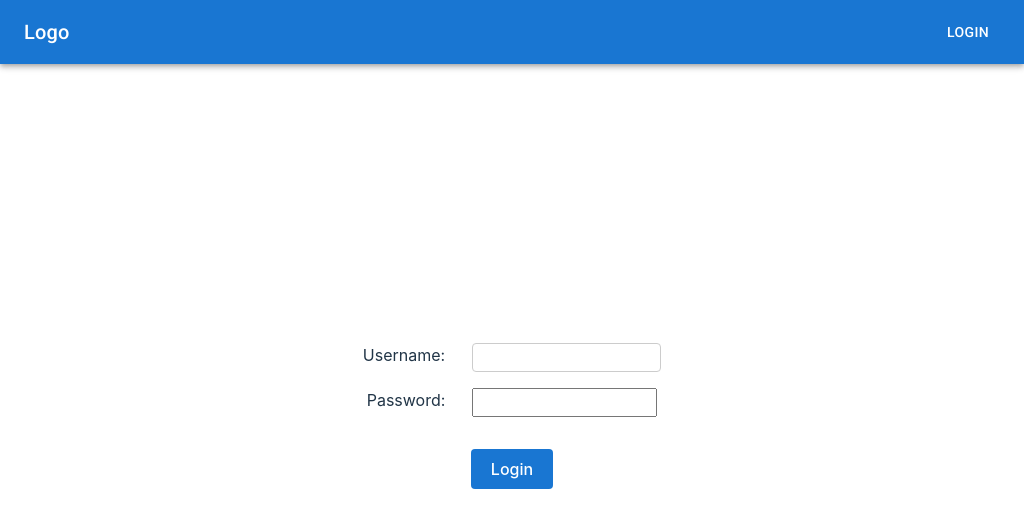
Test case: Login Page › should display error message for invalid login
The image size is (1024, 521).
Type "invaliduser" into the field with id "username".
click(567, 358); type("invaliduser")  # box x1=472 y1=343 x2=661 y2=372
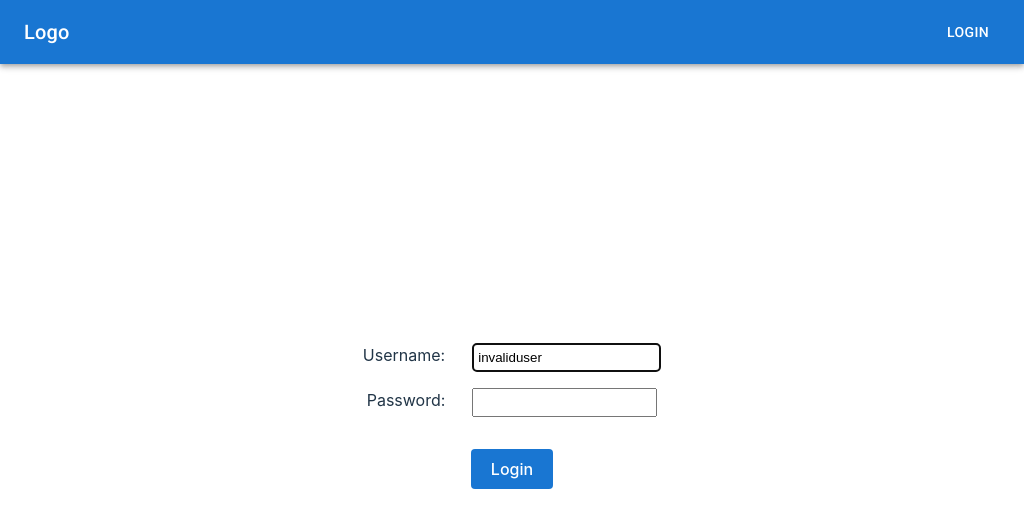
Type "invalidpassword" into the password field labelled "Password:".
click(565, 403); type("invalidpassword")  # box x1=472 y1=388 x2=657 y2=417
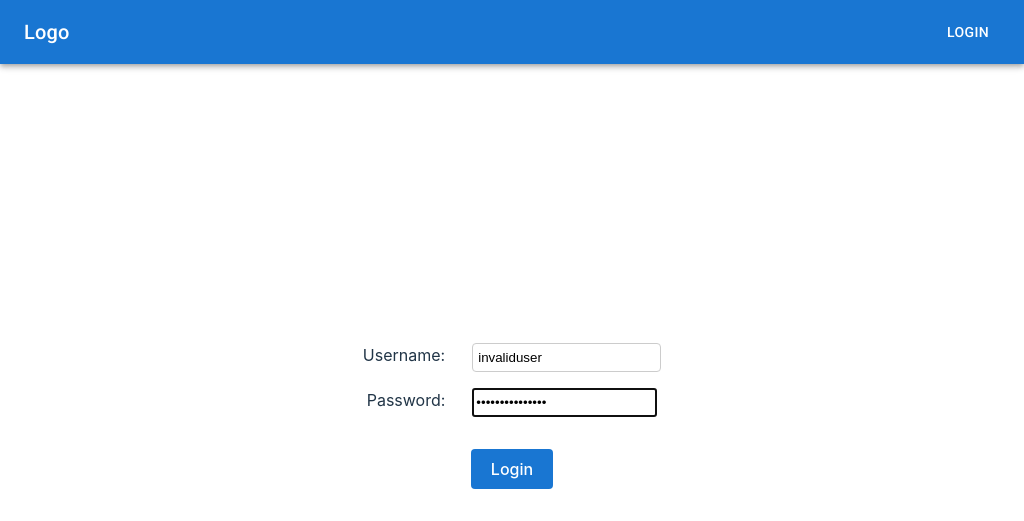
Submit the form, box x1=363 y1=343 x2=661 y2=489
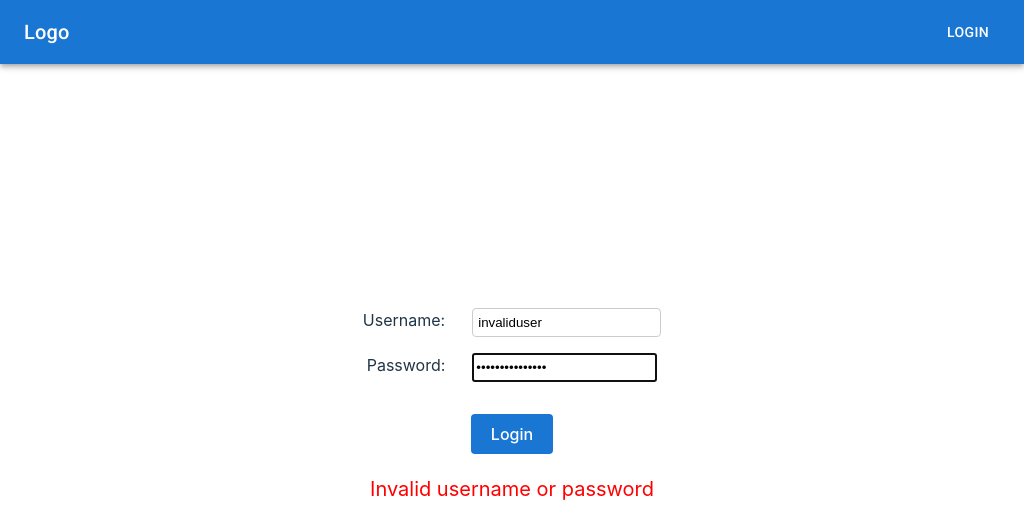
Expected: the element with class "login-container" is shown, x1=363 y1=308 x2=661 y2=501
Now the text "Invalid username or password" is shown, box x1=370 y1=474 x2=654 y2=504
